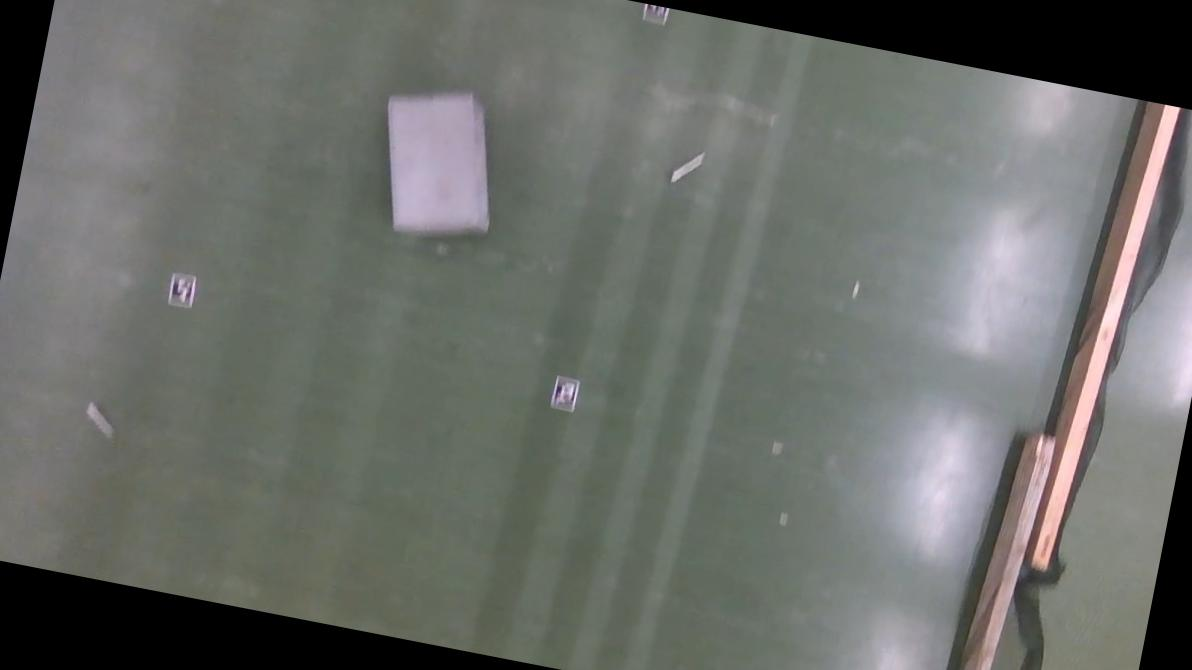probes: (672, 147, 706, 187), (84, 401, 118, 438)
rako: (364, 74, 514, 248)
